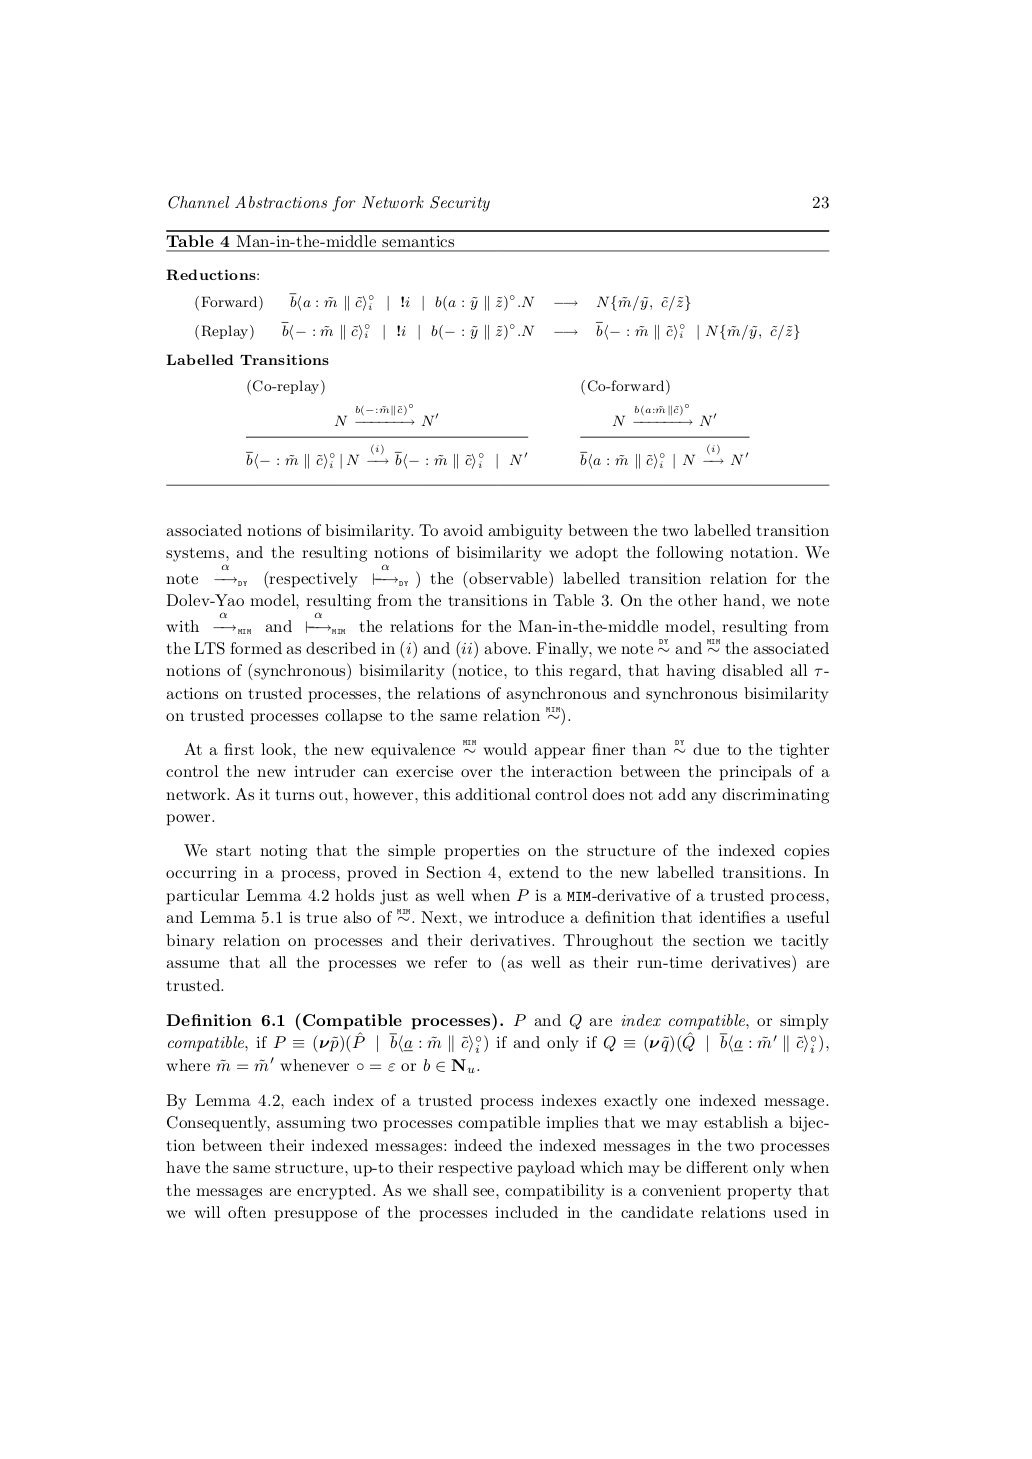Table: (166, 230, 829, 484)
